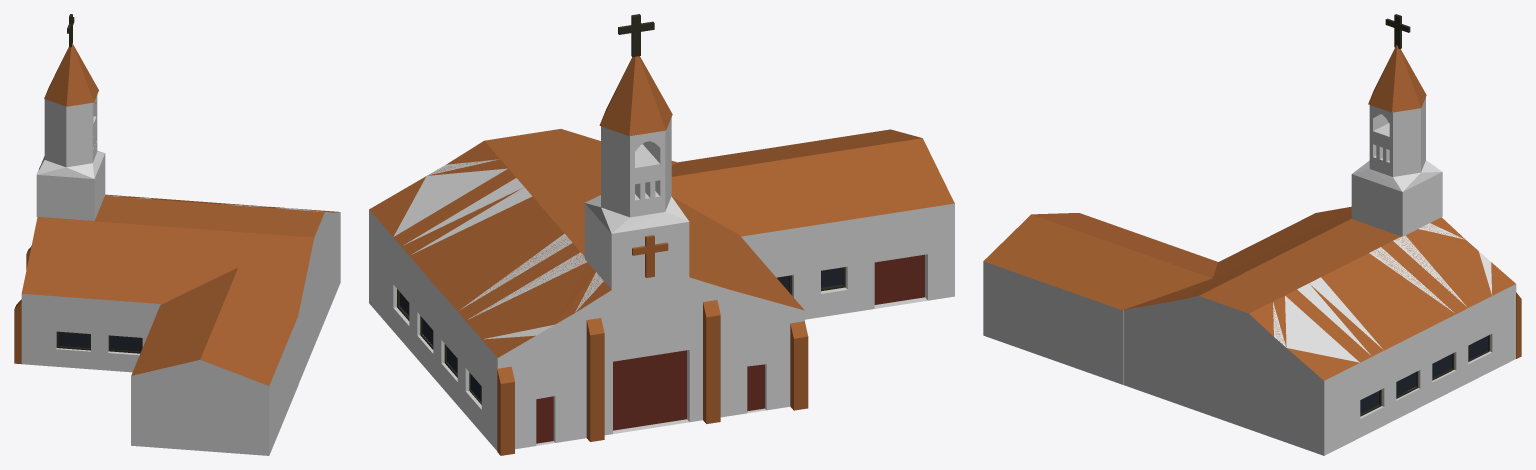
File: iglesia.gltf
The picture shows the model from 3 angles, left to right: view 1: azimuth 30°, elevation 25°; view 2: azimuth 150°, elevation 25°; view 3: azimuth 270°, elevation 25°; orthographic projection. The views are drawn at different scales.
Visible parts, largest first — view 1: Estructura, Cupula, Pilar 3; view 2: Estructura, Cupula, Pilar 2, Pilar 4, Pilar 3, Pilar, Cruz, Cruz baja; view 3: Estructura, Cupula.
Boxes of the visible parts, x1=… form: Estructura: x1=21, y1=95, x2=340, y2=455; Cupula: x1=44, y1=43, x2=98, y2=106; Pilar 3: x1=14, y1=299, x2=21, y2=364; Estructura: x1=369, y1=117, x2=954, y2=450; Cupula: x1=599, y1=56, x2=672, y2=136; Pilar 2: x1=586, y1=318, x2=604, y2=441; Pilar 4: x1=703, y1=300, x2=720, y2=423; Pilar 3: x1=790, y1=321, x2=808, y2=410; Pilar: x1=497, y1=366, x2=514, y2=455; Cruz: x1=618, y1=14, x2=654, y2=57; Cruz baja: x1=632, y1=235, x2=668, y2=277; Estructura: x1=983, y1=97, x2=1516, y2=455; Cupula: x1=1368, y1=45, x2=1426, y2=112.
Size of the model in its own units: 5.68 by 4.95 by 7.59.
